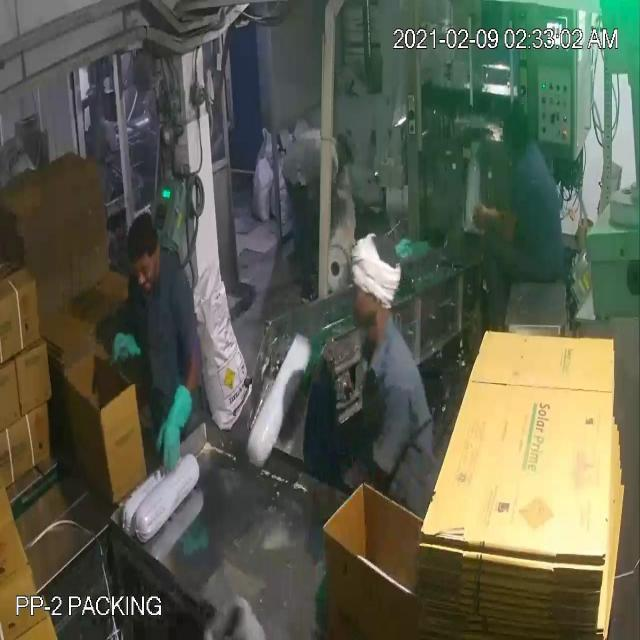Gloves: (51, 48, 490, 430)
